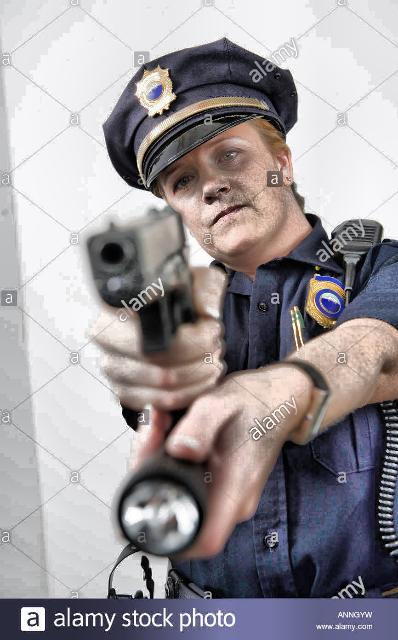pistol: (82, 198, 200, 356)
